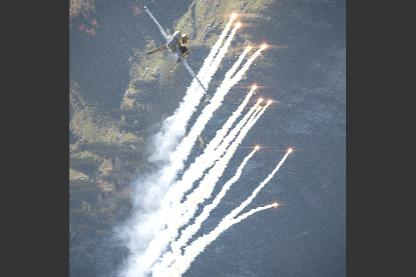F15: (144, 2, 208, 92)
